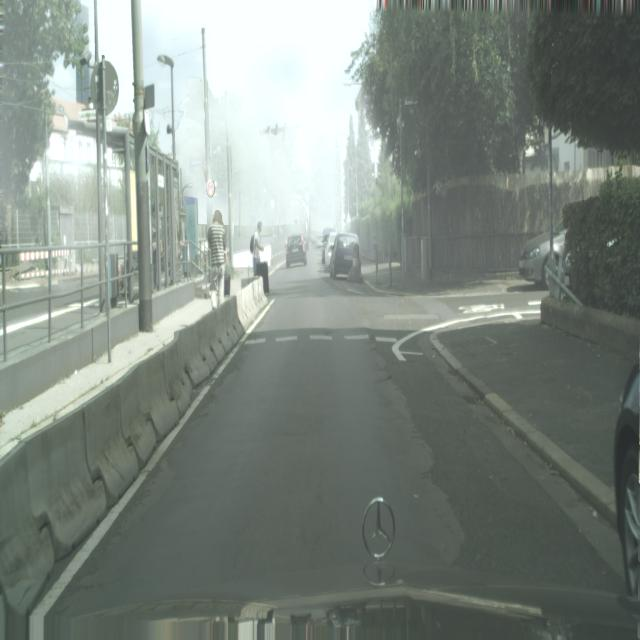bus: (207, 209, 227, 308), (251, 219, 271, 297)
person: (612, 362, 640, 606), (518, 227, 567, 286), (329, 232, 362, 281), (286, 234, 307, 268), (322, 229, 339, 266)
